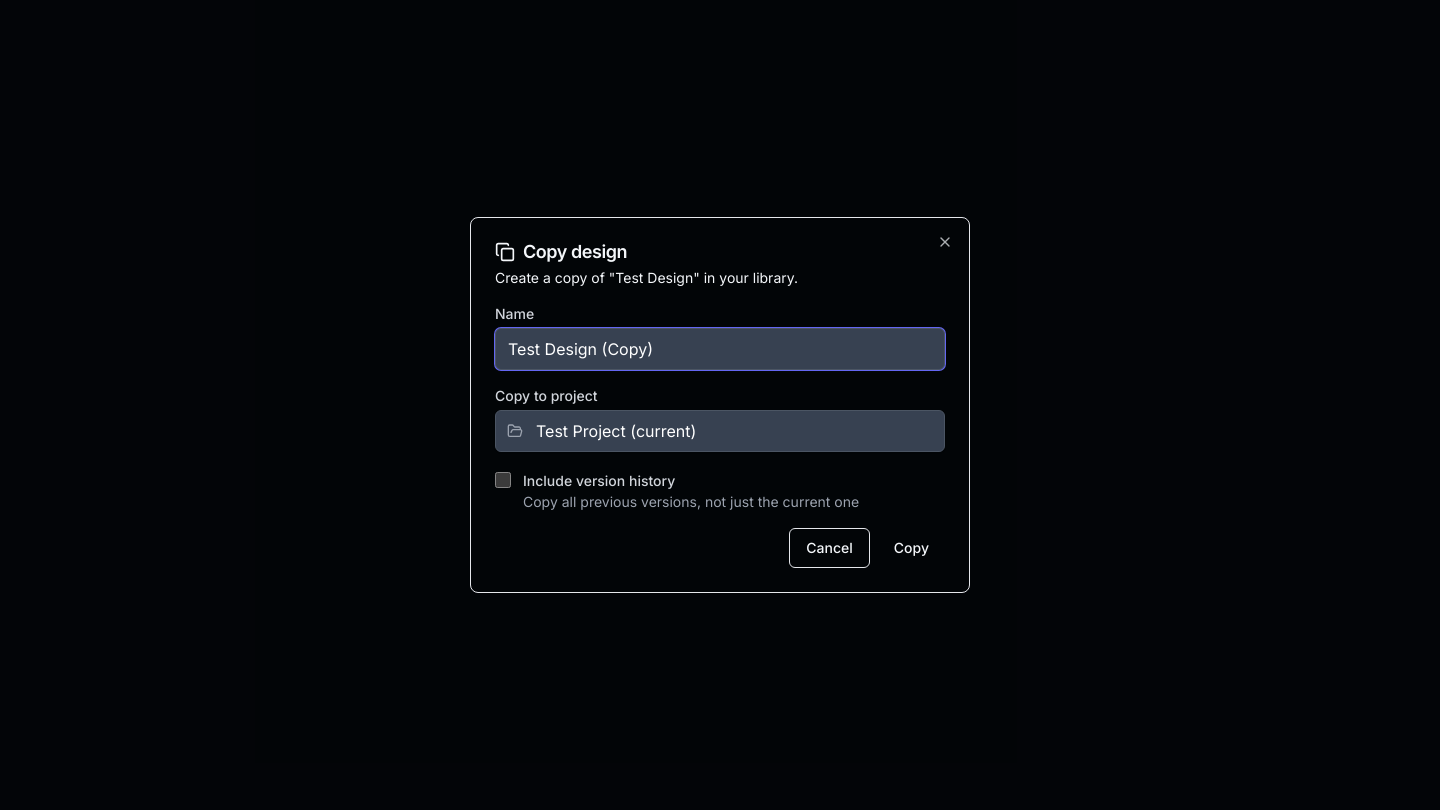
Test case: CopyModal › disables submit button when name is empty
The image size is (1440, 810).
Step 1. Clear the field with test id "copy-name-input" → (720, 349), box [495,328,945,370]
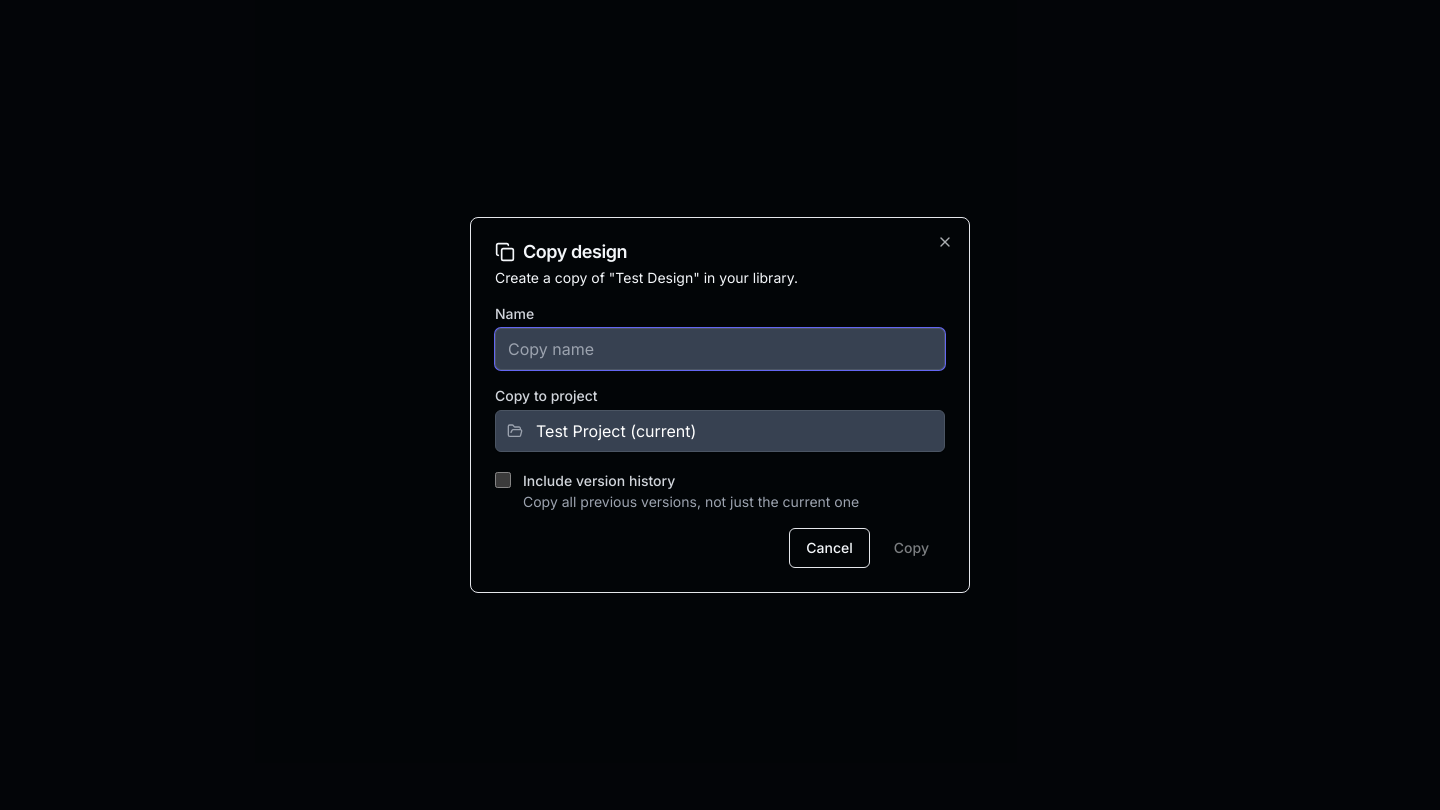
Now the button "Copy" is disabled, box [878,528,945,568]
